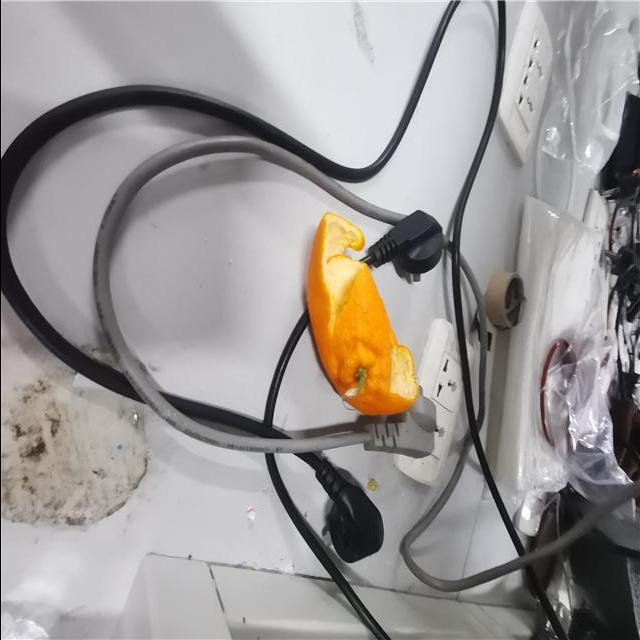orange peel: (308, 212, 421, 418)
